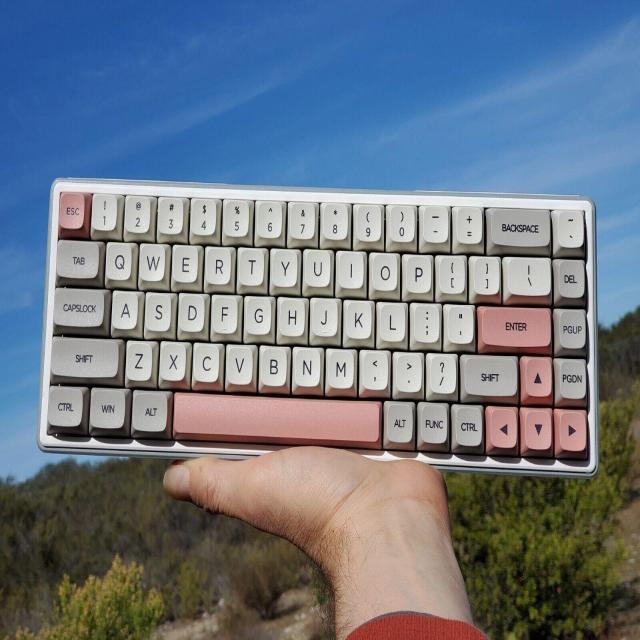keyboard: (37, 177, 600, 478)
